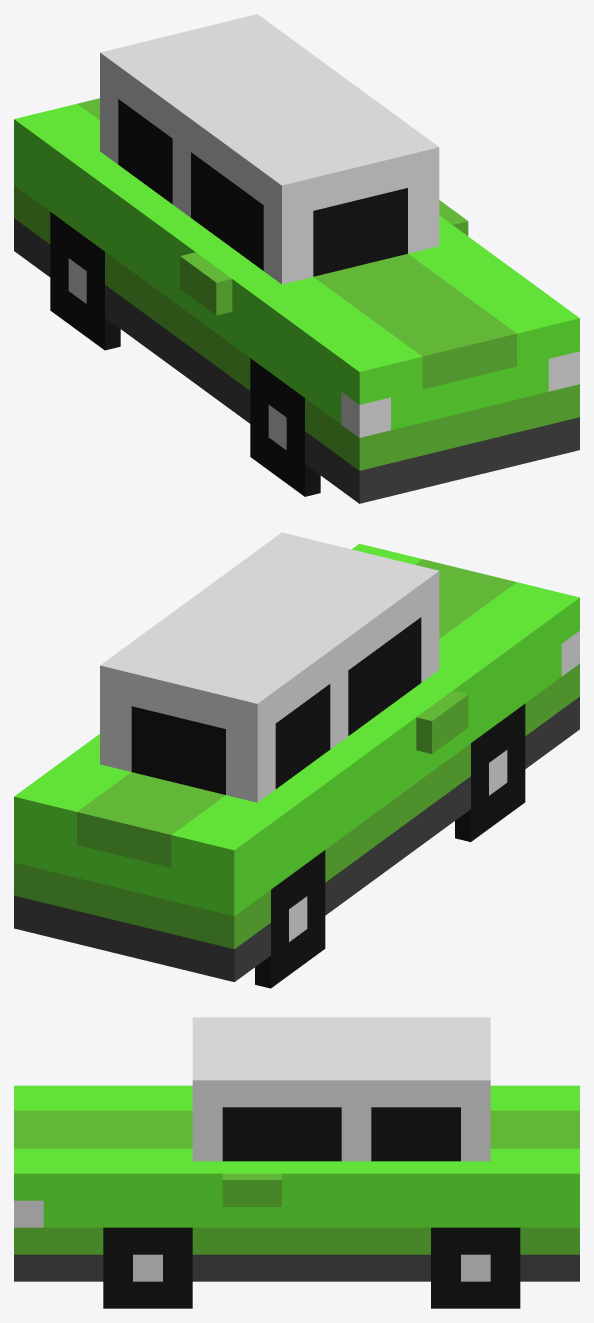
The model's file is roady_cross_assets-4.obj.
The picture shows the model from 3 angles, top to bottom: view 1: azimuth 30°, elevation 25°; view 2: azimuth 150°, elevation 25°; view 3: azimuth 270°, elevation 25°; orthographic projection. The views are drawn at different scales.
Size of the model in its own units: 1.6 by 1.6 by 3.8.
1 material, 1 textured.
